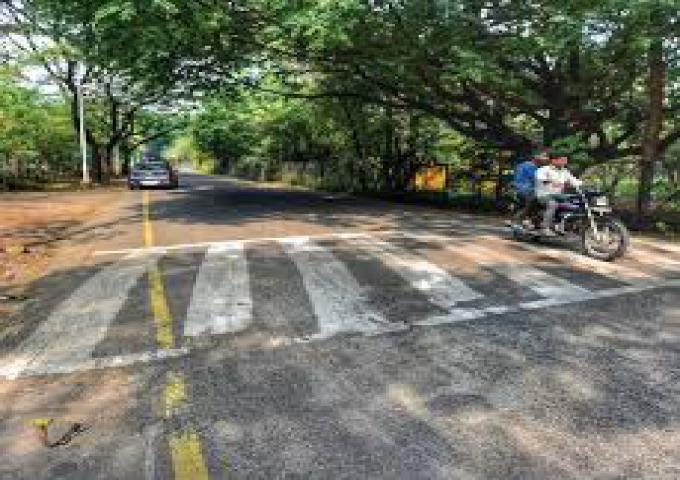speedbreaker: (74, 227, 546, 339)
